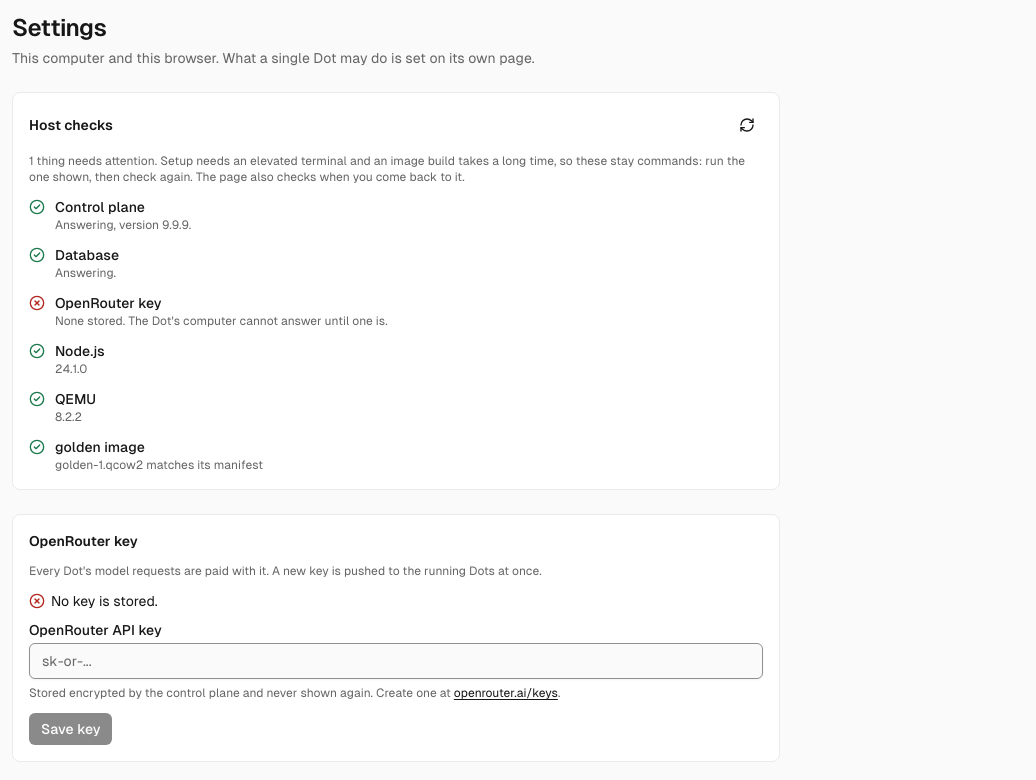
Test: Settings: the OpenRouter key › says nothing was pushed when no computer is running
Expected: the heading "Settings" is shown, top-left (12, 14), bottom-right (106, 41)
Type "sk-or-first" into the password field labelled "OpenRouter API key" at (396, 661), box top-left (29, 643), bottom-right (763, 679)
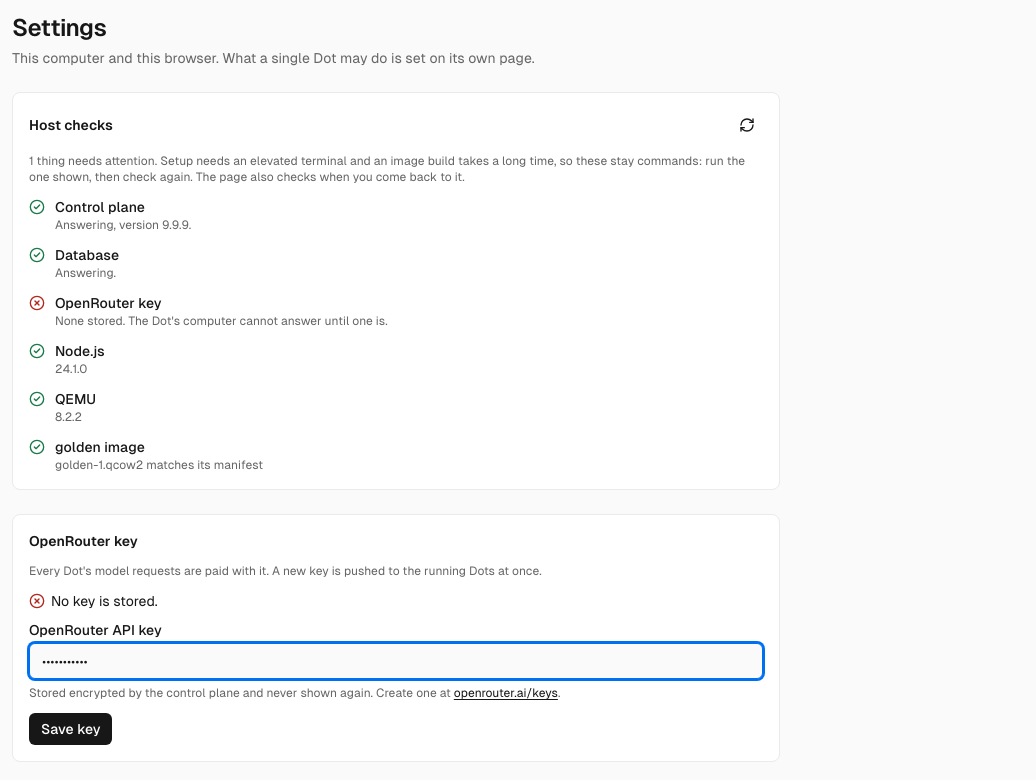
Click the button "Save key" at (71, 729), box top-left (29, 713), bottom-right (112, 745)
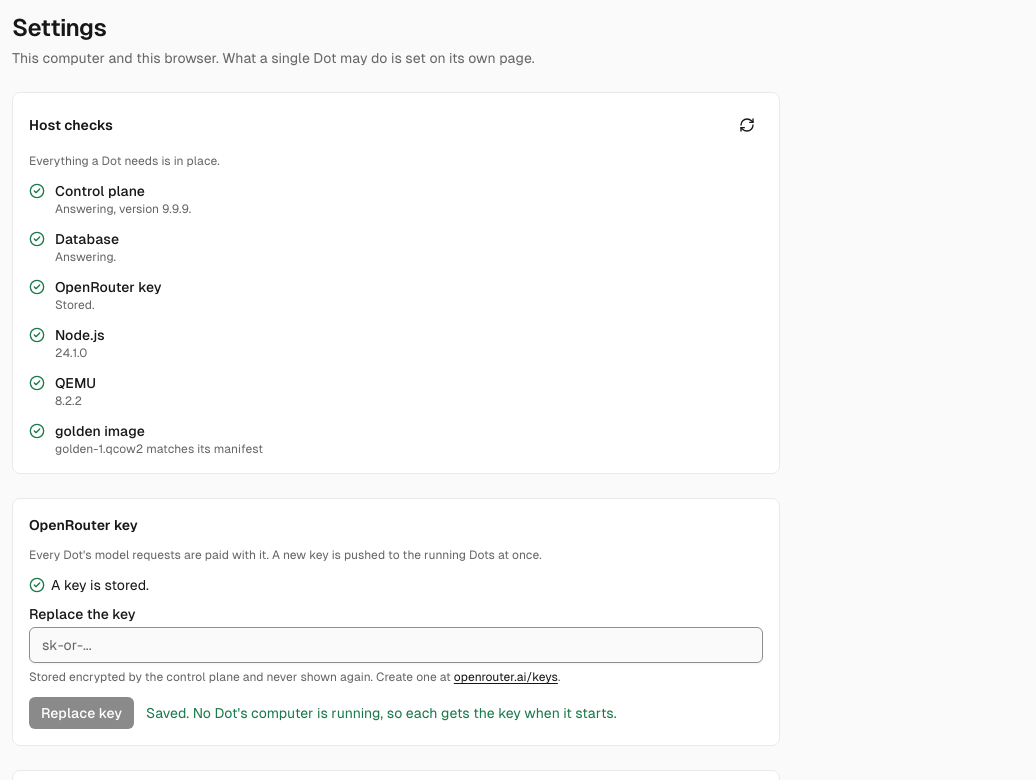
Now the text "Saved. No Dot's computer is running, so each gets the key when it starts." is shown, box top-left (146, 703), bottom-right (616, 723)
